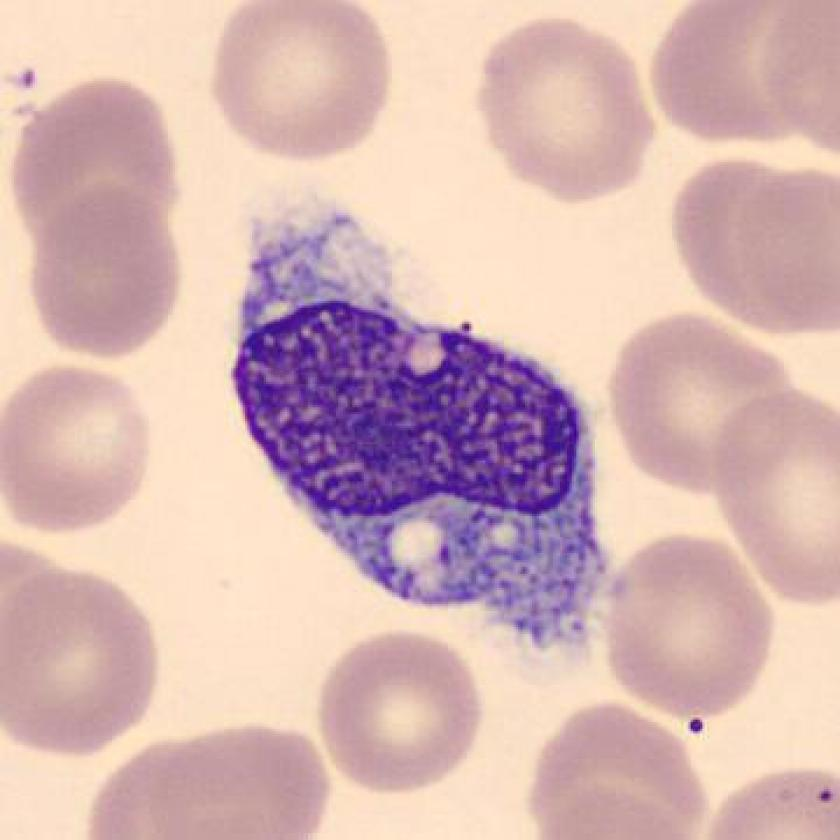monocyte: (214, 168, 641, 677)
